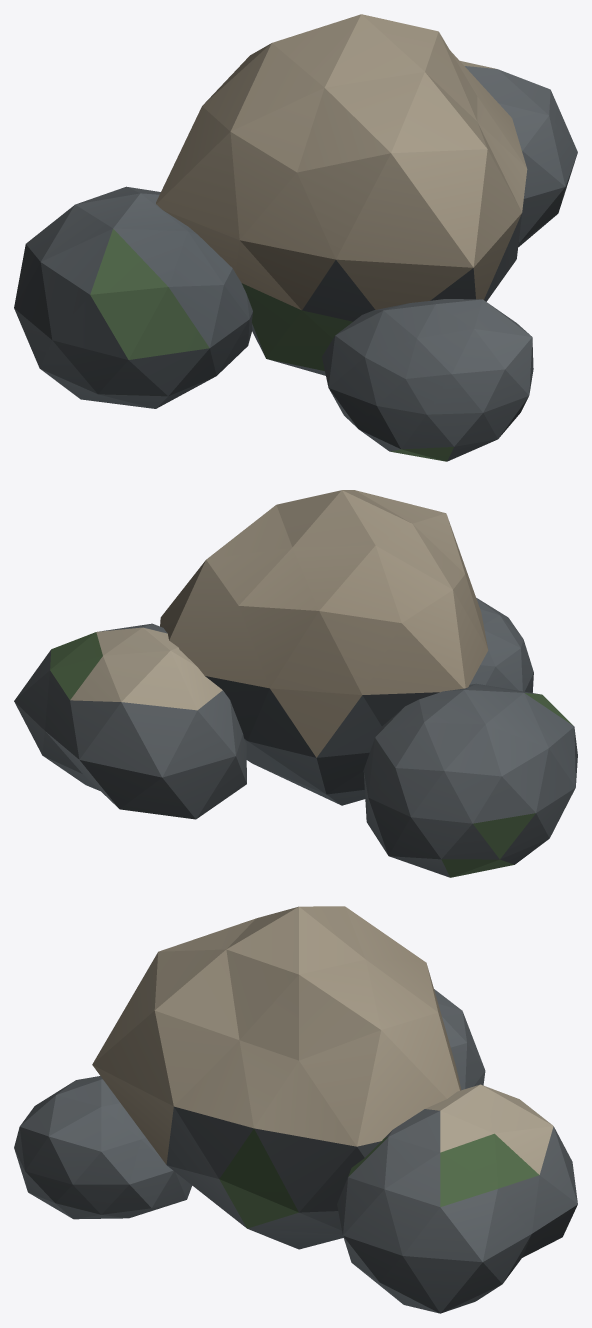
The model's file is env_river_rock_river_wet_cluster_01.glb.
3 renders of one model, top to bottom at view 1: azimuth 30°, elevation 25°; view 2: azimuth 150°, elevation 25°; view 3: azimuth 270°, elevation 25°, orthographic. The views are drawn at different scales.
Visible parts, largest first — view 1: rock_river_wet_cluster_01; view 2: rock_river_wet_cluster_01; view 3: rock_river_wet_cluster_01.
Boxes of the visible parts, x1,y1,x2,y2 form: rock_river_wet_cluster_01: (14,14,577,461); rock_river_wet_cluster_01: (14,490,577,877); rock_river_wet_cluster_01: (14,906,577,1313).
Bounding box in the file's own units: 0.5715 × 0.3507 × 0.5227.
